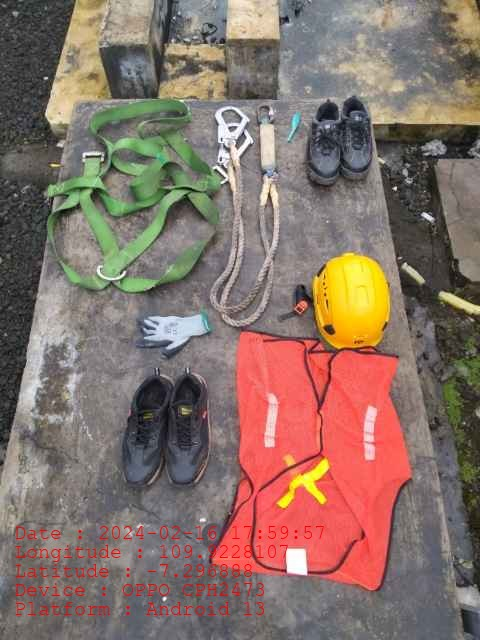HELM: (311, 253, 390, 349)
SARUNG_TANGAN: (138, 314, 212, 356)
SEPATU: (306, 93, 373, 186)
TAMBANG_SLING: (212, 103, 281, 325)
